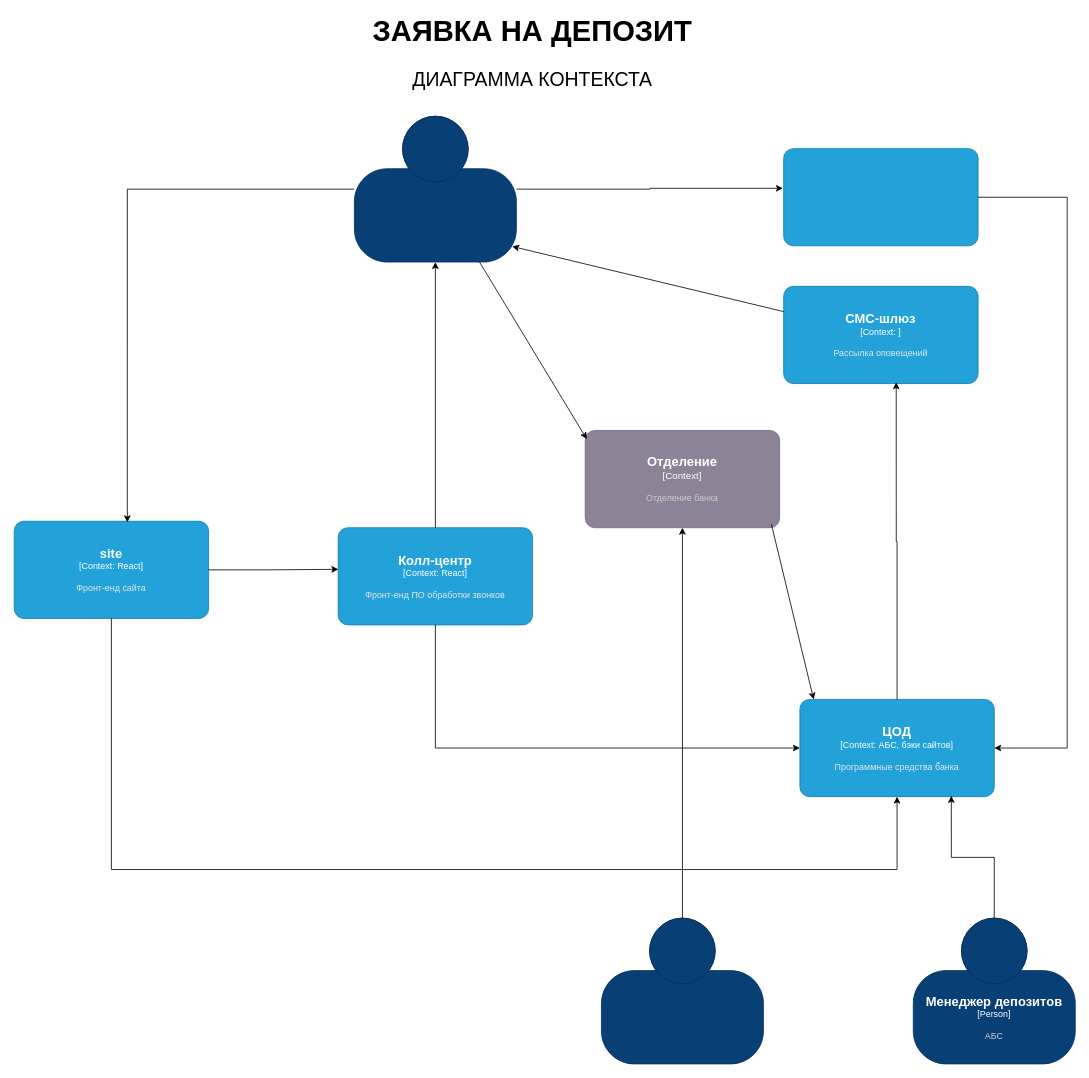
Image size: 1089x1078. Some labels were removed from this diagram. The box of each missing label's shape, as (x1, y1, x2, y2) in pixels:
Клиент [Person] Клиент: (354, 115, 516, 262)
Личный кабинет [Context: ASP] Фронт-енд интернет-банка: (783, 148, 978, 246)
Менеджер АБС [Person] АБС: (601, 917, 763, 1064)
